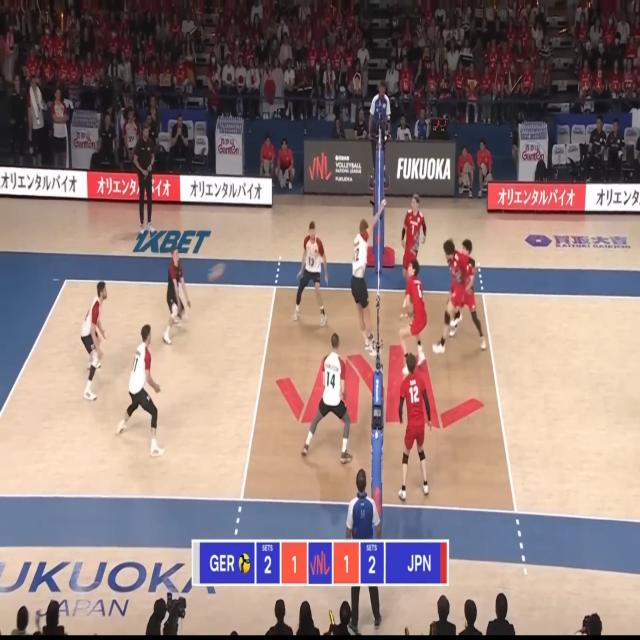ball: (208, 262, 225, 281)
